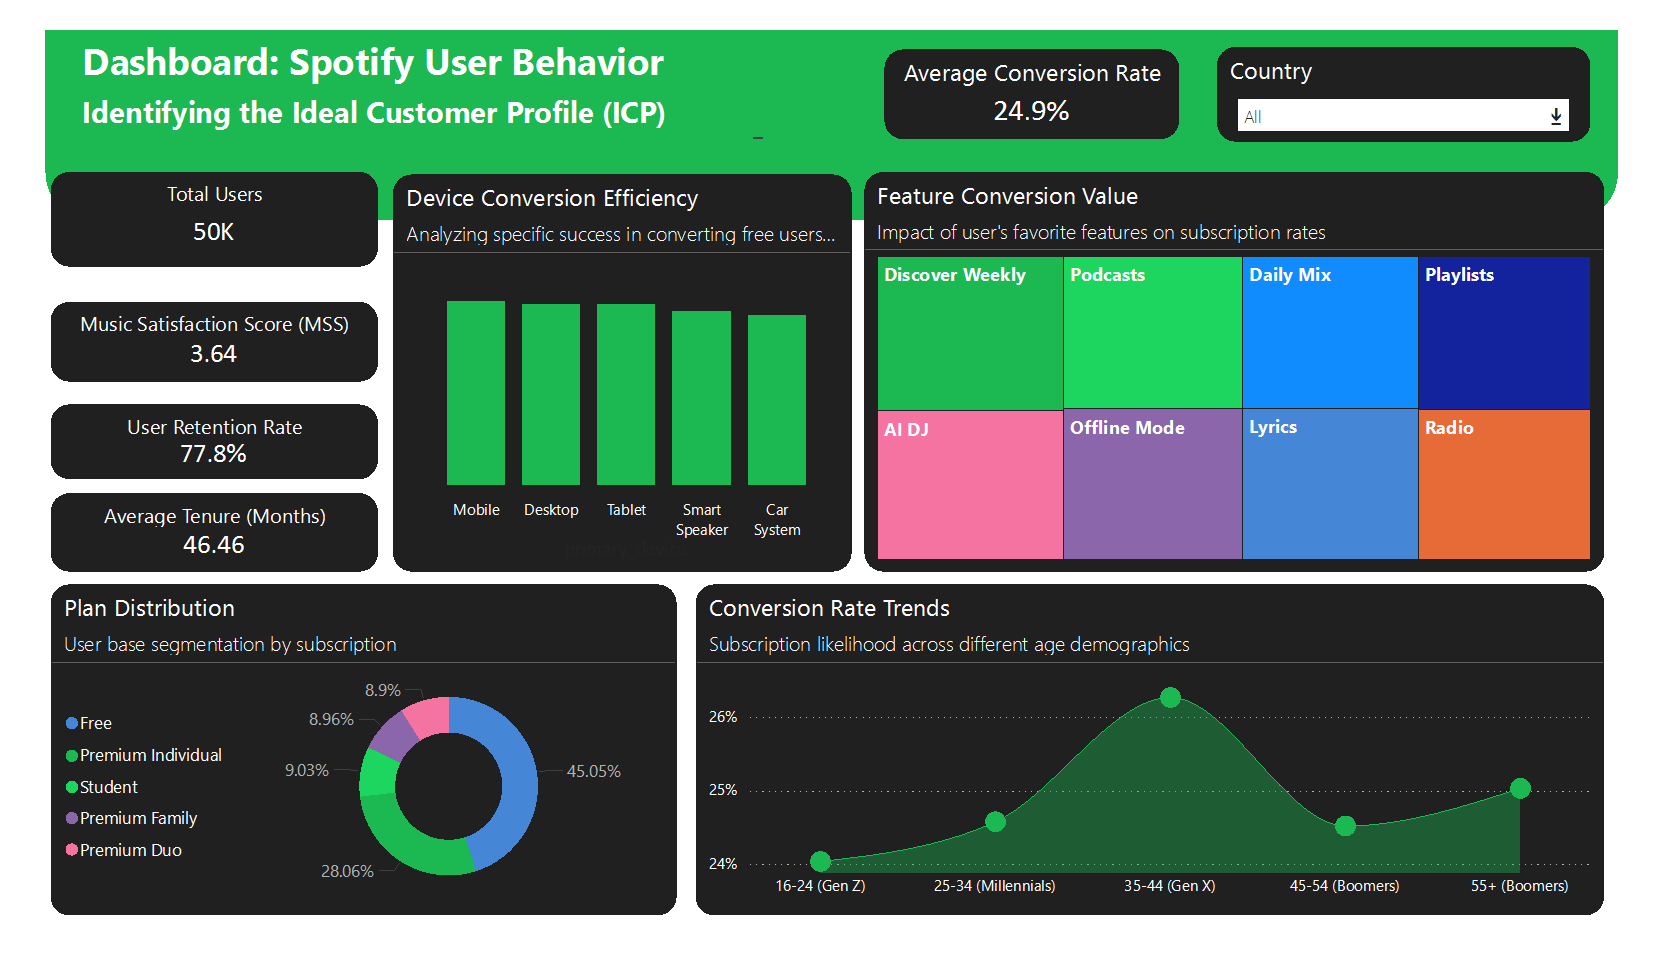

The page's visual inventory and layout, read from the dashboard file:
{"tool":"powerbi","page":{"name":"Conversion","canvas":[1280,720],"ordinal":0},"visuals":[{"type":"shape","box":[11.8,0,1257.9,151.7],"z":0},{"type":"treemap","title":"Feature Conversion Value","fields":{"Values":["spotify_cleaned.conversion_rate"],"Group":["spotify_cleaned.most_liked_feature"]},"box":[667.2,113.4,592.1,319.6],"z":1000},{"type":"lineChart","title":"Conversion Rate Trends","fields":{"Y":["spotify_cleaned.conversion_rate"],"Category":["spotify_cleaned.age_group"]},"box":[531.7,443.4,727.6,265.1],"z":2000},{"type":"clusteredColumnChart","title":"Device Conversion Efficiency","fields":{"Category":["dim_primary_device.primary_device"],"Y":["spotify_cleaned.conversion_rate"]},"box":[290.2,114.9,366.8,318.2],"z":3000},{"type":"card","title":"User Retention Rate","fields":{"Values":["spotify_cleaned.activity_index"]},"box":[16.2,299,262.2,60.4],"z":4000},{"type":"card","title":"Music Satisfaction Score (MSS)","fields":{"Values":["spotify_cleaned.MSS"]},"box":[16.2,216.5,262.2,64.8],"z":5000},{"type":"donutChart","title":"Plan Distribution","fields":{"Category":["dim_subiscription.subscription_type"],"Y":["spotify_cleaned.total_users"]},"box":[16.2,443.4,500.8,265.1],"z":6000},{"type":"slicer","title":"Country","fields":{"Values":["dim_country.country"]},"box":[949.4,13.4,299,75.7],"z":7000},{"type":"card","title":"Average Conversion Rate","fields":{"Values":["spotify_cleaned.conversion_rate"]},"box":[683.4,14.6,235.5,72],"z":8000},{"type":"textbox","title":"Dashboard: Spotify User Behavior","box":[36.6,3.7,554,87.9],"z":9000},{"type":"card","title":"Average Tenure (Months)","fields":{"Values":["spotify_cleaned.estimated_LTV"]},"box":[16.2,369.7,262.2,63.3],"z":10000},{"type":"card","title":"Total Users","fields":{"Values":["spotify_cleaned.total_users"]},"box":[16.2,113.4,262.2,75.1],"z":11000}]}

Visuals, with their boxes in screenshot pixels (x1, y1, x2, y2), scaled from the page's 1280x720 canvas onto the 1660x960 screenshot:
shape: Rect(15, 0, 1647, 202)
"Feature Conversion Value" treemap: Rect(865, 151, 1633, 577)
"Conversion Rate Trends" lineChart: Rect(690, 591, 1633, 945)
"Device Conversion Efficiency" clusteredColumnChart: Rect(376, 153, 852, 577)
"User Retention Rate" card: Rect(21, 399, 361, 479)
"Music Satisfaction Score (MSS)" card: Rect(21, 289, 361, 375)
"Plan Distribution" donutChart: Rect(21, 591, 670, 945)
"Country" slicer: Rect(1231, 18, 1619, 119)
"Average Conversion Rate" card: Rect(886, 19, 1192, 115)
"Dashboard: Spotify User Behavior" textbox: Rect(47, 5, 766, 122)
"Average Tenure (Months)" card: Rect(21, 493, 361, 577)
"Total Users" card: Rect(21, 151, 361, 251)
